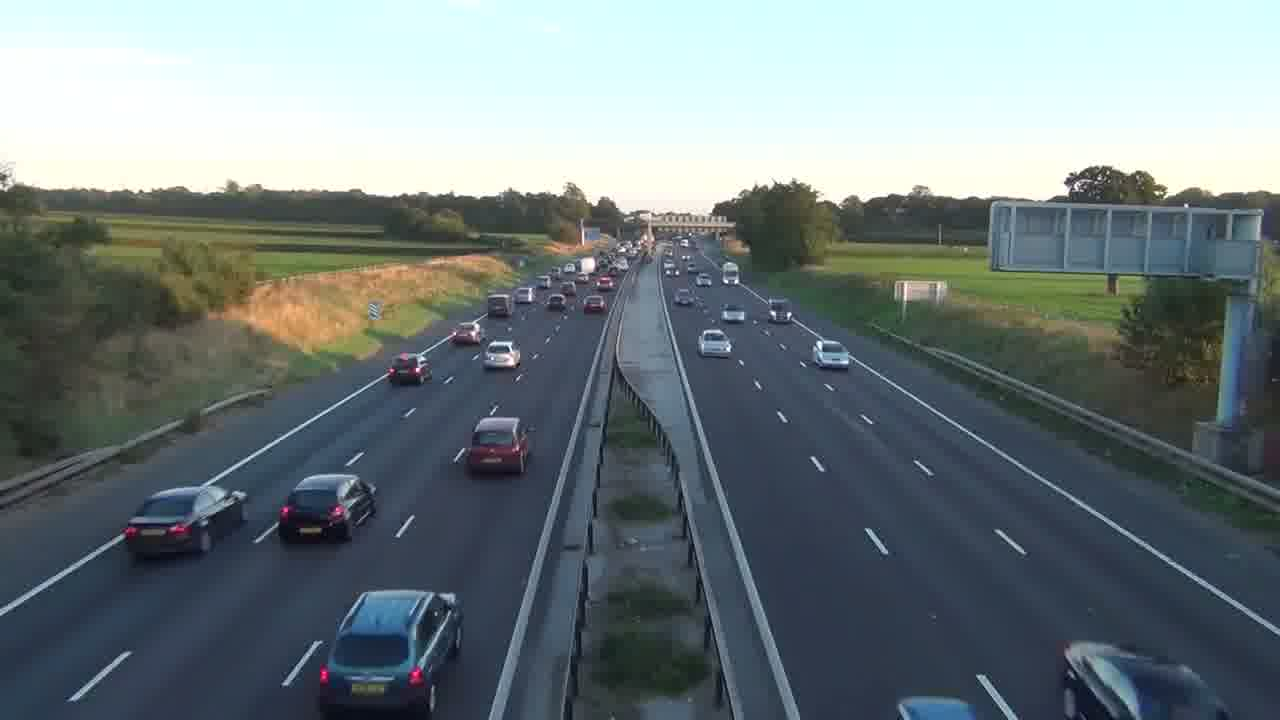car: (317, 588, 464, 716), (1059, 640, 1231, 719), (121, 484, 247, 559), (277, 472, 378, 543), (467, 416, 532, 476), (385, 351, 432, 386), (809, 338, 851, 369), (483, 341, 521, 369), (698, 328, 732, 357)
truck: (486, 292, 512, 319)
